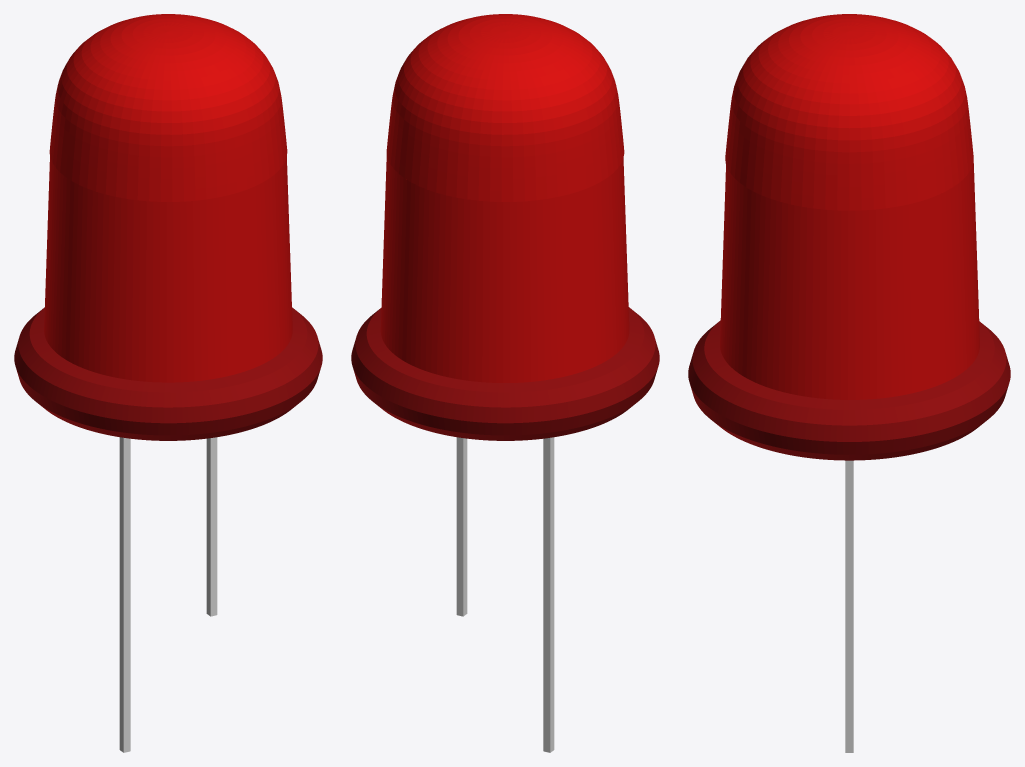
The model's file is LED Red.fbx.
3 renders of one model, left to right at view 1: azimuth 30°, elevation 25°; view 2: azimuth 150°, elevation 25°; view 3: azimuth 270°, elevation 25°, orthographic. The views are drawn at different scales.
Visible parts, largest first — view 1: Cylinder, Sphere, Torus, Cube, Cube.001; view 2: Cylinder, Sphere, Torus, Cube, Cube.001; view 3: Cylinder, Sphere, Torus, Cube.001, Cube.
Boxes of the visible parts, box(x1,y1,x2,y2) form: Cylinder: box(44, 156, 292, 382); Sphere: box(49, 14, 287, 201); Torus: box(14, 307, 322, 440); Cube: box(119, 437, 130, 752); Cube.001: box(206, 437, 217, 616); Cylinder: box(380, 154, 629, 382); Sphere: box(386, 14, 624, 201); Torus: box(351, 307, 659, 440); Cube: box(543, 437, 554, 752); Cube.001: box(456, 437, 467, 616); Cylinder: box(720, 161, 979, 399); Sphere: box(725, 14, 973, 210); Torus: box(688, 320, 1010, 460); Cube.001: box(845, 460, 853, 676); Cube: box(845, 677, 853, 752).
Bounding box in the file's own units: 164 × 415 × 164.
